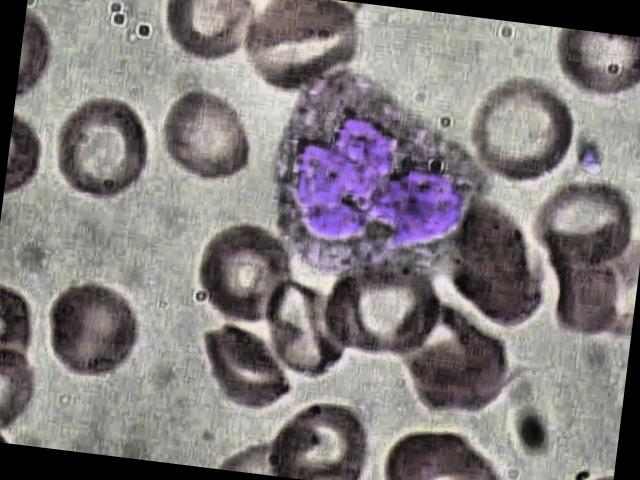Platelets: (574, 138, 610, 182)
RBC: (457, 69, 581, 199), (315, 257, 453, 367), (44, 86, 156, 216), (34, 272, 146, 402), (150, 76, 262, 206), (189, 212, 306, 336), (237, 0, 363, 105), (184, 318, 302, 419), (527, 176, 637, 280), (262, 391, 380, 480), (153, 0, 262, 76)
WBC: (243, 57, 497, 288)
